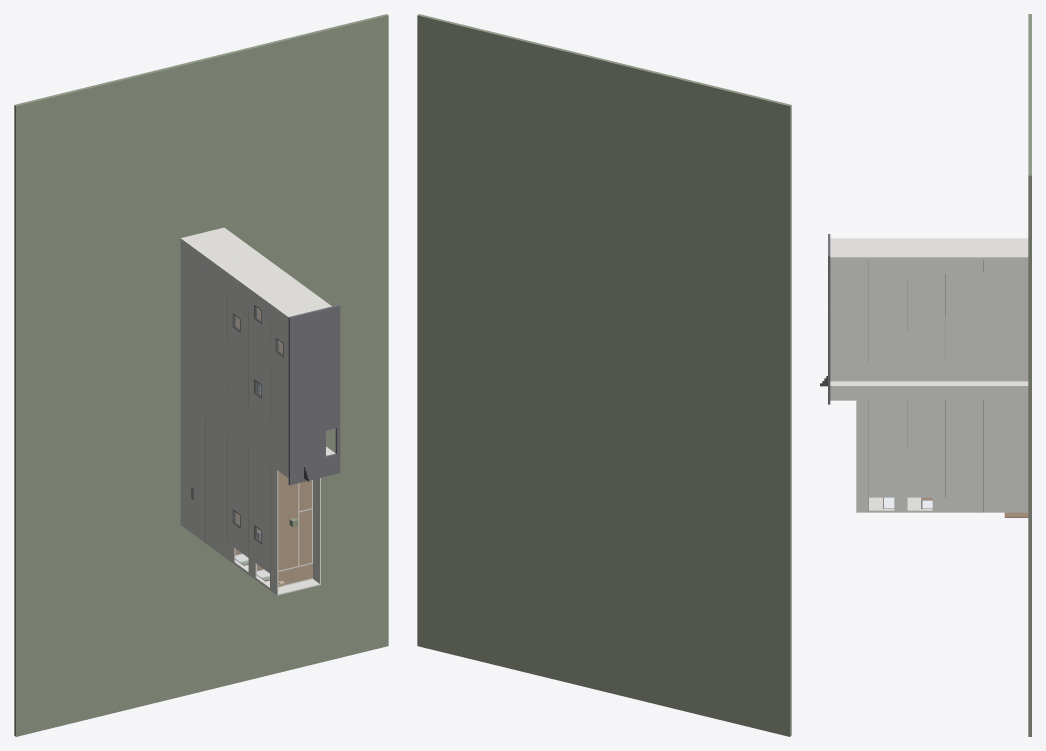
File: tubehouse-dream.glb
3 views of the same model, side by side, from view 1: azimuth 30°, elevation 25°; view 2: azimuth 150°, elevation 25°; view 3: azimuth 270°, elevation 25° (orthographic). The views are drawn at different scales.
Parts seen in each view (by area): view 1: ground, roof_1, floor_terrace_f4_0, wall_F0_W014_0, wall_F1_W011_0, wall_F1_W013_0, wall_F0_W012_0, wall_F0_W021_0, wall_F2_W016_0, parapet_w.002, wall_F0_W013_0, wall_F4_W014_0 (+15 smaller); view 2: ground; view 3: wall_F0_W006_0, wall_F1_W003_0, wall_F2_W004_0, wall_F1_W005_0, wall_F0_W003_0, ground, wall_F4_W005_0, wall_F3_W005_0, wall_F0_W004_0, wall_F3_W004_0, wall_F2_W006_0, wall_F3_W008_0 (+23 smaller).
Boxes of the visible parts, box(x1,y1,x2,y2) form: ground: box(14, 14, 388, 736); roof_1: box(288, 305, 340, 439); floor_terrace_f4_0: box(270, 464, 312, 589); wall_F0_W014_0: box(180, 241, 205, 373); wall_F1_W011_0: box(206, 417, 227, 558); wall_F1_W013_0: box(206, 275, 226, 389); wall_F0_W012_0: box(180, 399, 205, 462); wall_F0_W021_0: box(180, 227, 248, 258); wall_F2_W016_0: box(227, 340, 248, 405); parapet_w.002: box(270, 465, 278, 594); wall_F0_W013_0: box(180, 357, 205, 416); wall_F4_W014_0: box(270, 365, 288, 434); ground: box(417, 14, 791, 736); wall_F0_W006_0: box(983, 259, 1028, 360); wall_F1_W003_0: box(945, 400, 983, 512); wall_F2_W004_0: box(907, 400, 944, 496); wall_F1_W005_0: box(945, 273, 983, 360); wall_F0_W003_0: box(984, 441, 1028, 512); ground: box(1028, 14, 1031, 736); wall_F4_W005_0: box(830, 311, 868, 362); wall_F3_W005_0: box(869, 400, 906, 448); wall_F0_W004_0: box(984, 400, 1028, 440); wall_F3_W004_0: box(869, 449, 906, 496); wall_F2_W006_0: box(907, 317, 944, 362); wall_F3_W008_0: box(869, 293, 906, 331).
Size of the model in its own units: 34 by 55 by 18.8.
